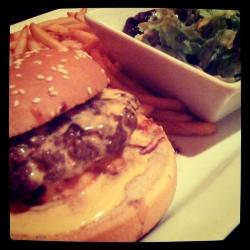burger: (9, 46, 181, 243)
fries: (8, 12, 114, 65)
salad: (127, 10, 242, 80)
